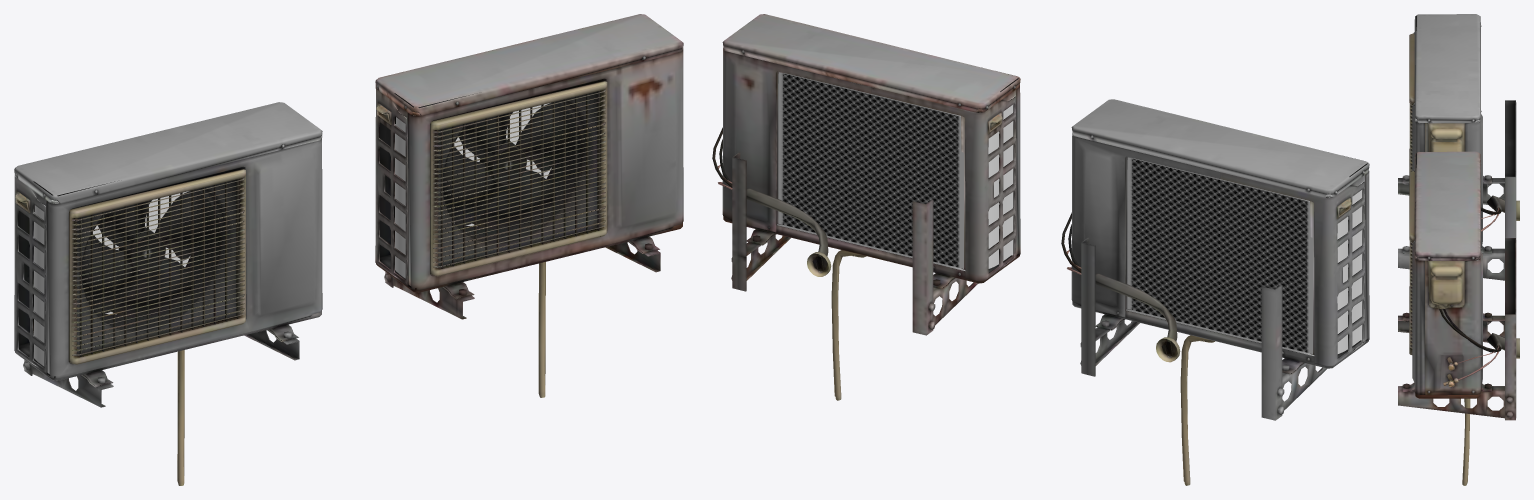
Rendered from exterior_aircon_unit.glb.
3 views of the same model, side by side, from view 1: azimuth 30°, elevation 25°; view 2: azimuth 150°, elevation 25°; view 3: azimuth 270°, elevation 25° (orthographic). The views are drawn at different scales.
Parts seen in each view (by area): view 1: exterior_aircon_unit, exterior_aircon_unit_rusted; view 2: exterior_aircon_unit, exterior_aircon_unit_rusted; view 3: exterior_aircon_unit_rusted, exterior_aircon_unit.
Part boxes in pixels (bbox=[...]): exterior_aircon_unit: bbox=[14, 102, 322, 485]; exterior_aircon_unit_rusted: bbox=[375, 14, 683, 397]; exterior_aircon_unit: bbox=[1061, 99, 1369, 485]; exterior_aircon_unit_rusted: bbox=[712, 14, 1020, 400]; exterior_aircon_unit_rusted: bbox=[1398, 151, 1519, 485]; exterior_aircon_unit: bbox=[1398, 14, 1519, 280].
Bounding box in the file's own units: 1.8 × 0.9279 × 0.3742.
4 materials, 4 textured.
